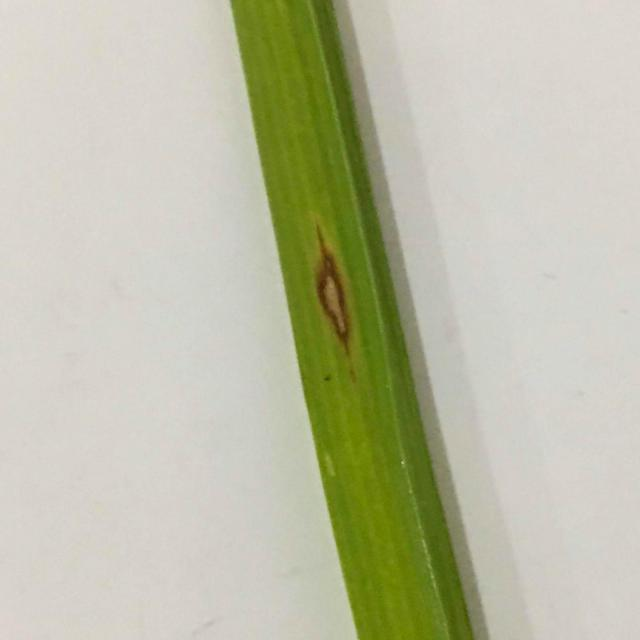Leaf_Blast: (299, 223, 377, 364)
